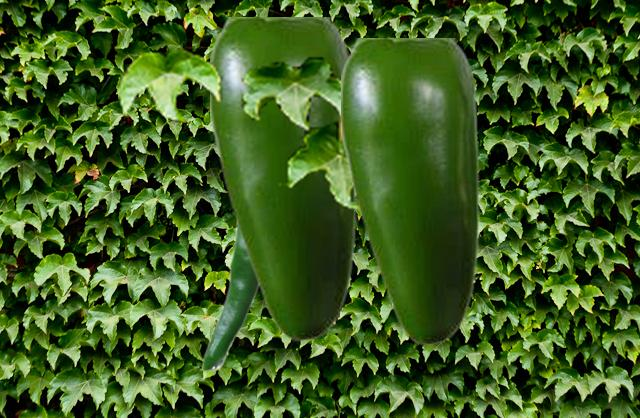green_chili: (210, 17, 355, 341), (341, 38, 478, 345), (200, 223, 258, 371)
